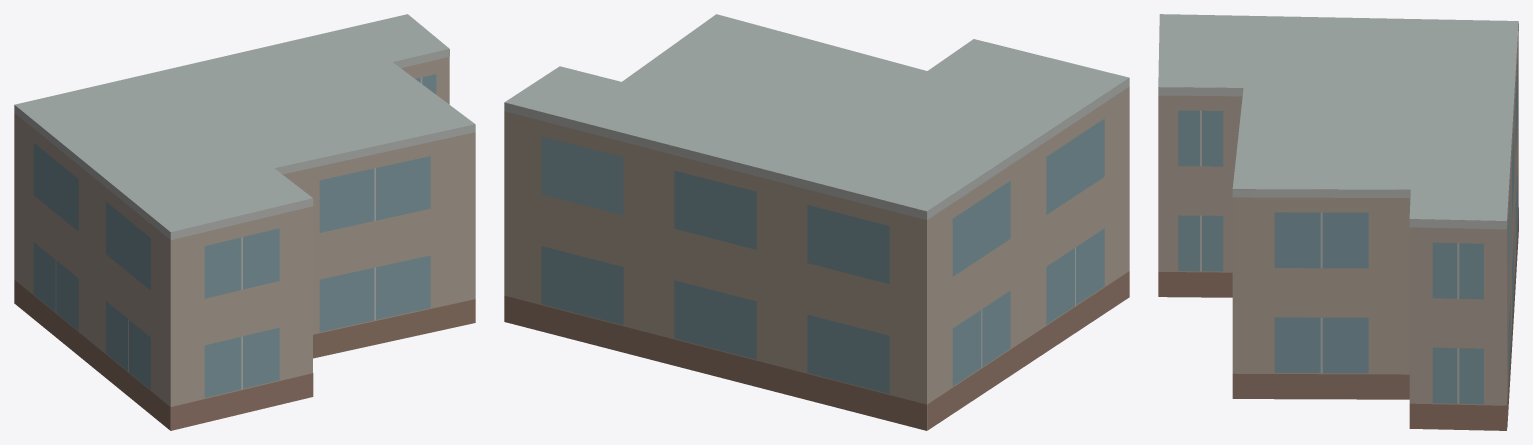
The model's file is survey-upis-32561600.glb.
The picture shows the model from 3 angles, left to right: view 1: azimuth 30°, elevation 25°; view 2: azimuth 150°, elevation 25°; view 3: azimuth 270°, elevation 25°; orthographic projection. The views are drawn at different scales.
Visible parts, largest first — view 1: survey-upis-32561600.tmp; view 2: survey-upis-32561600.tmp; view 3: survey-upis-32561600.tmp.
Part boxes in pixels (<box>): survey-upis-32561600.tmp: <box>14,14,475,430</box>; survey-upis-32561600.tmp: <box>504,14,1129,430</box>; survey-upis-32561600.tmp: <box>1158,14,1518,430</box>.
Size of the model in its own units: 12.92 by 6.1 by 9.51.
